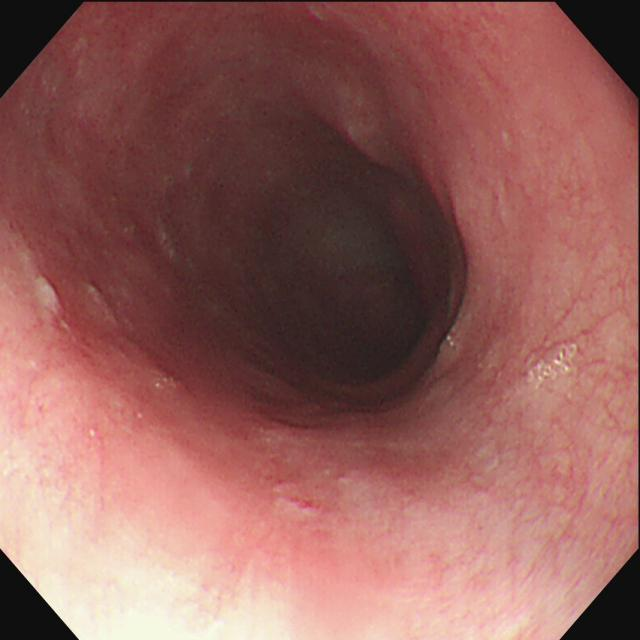E: (281, 241, 437, 405)
J: (87, 285, 135, 332), (33, 276, 70, 330), (160, 224, 179, 261)
T: (525, 344, 580, 386)
